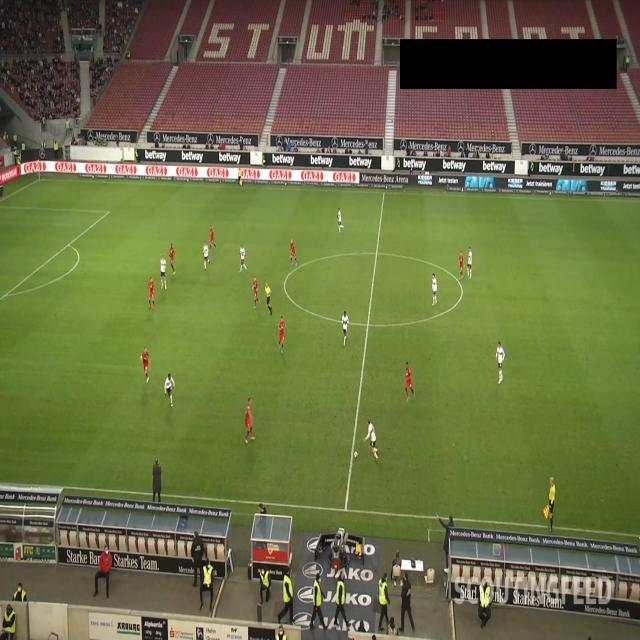ball: (354, 451, 358, 459)
